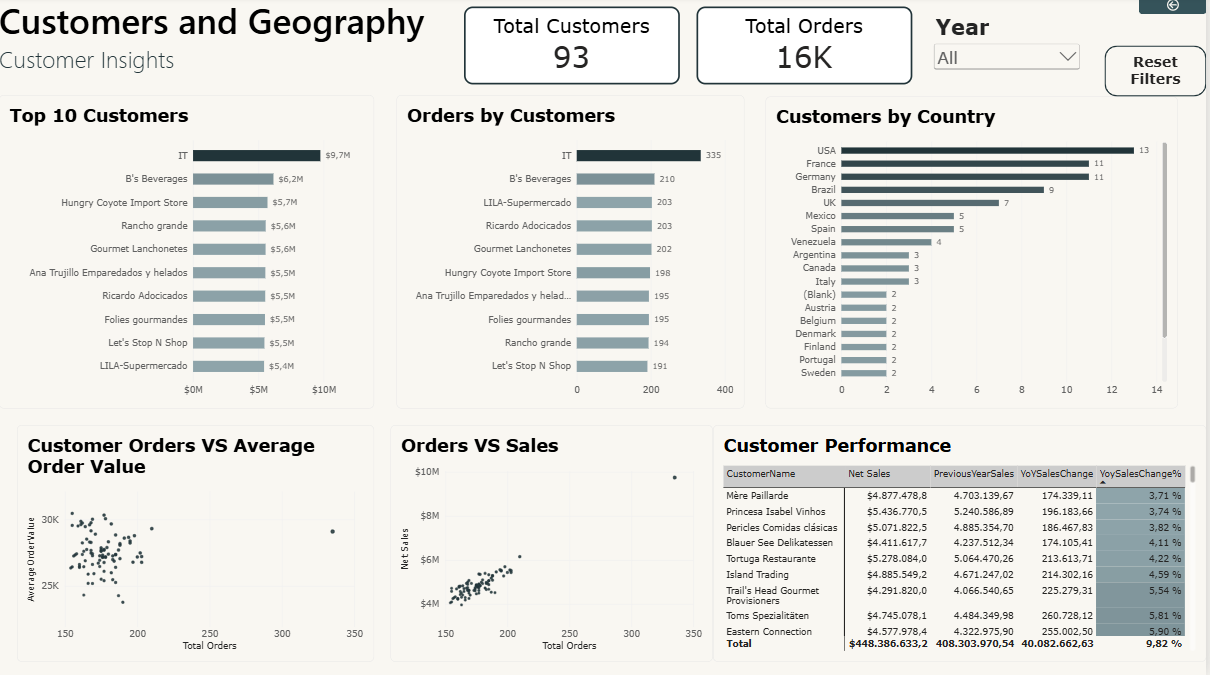

The page's visual inventory and layout, read from the dashboard file:
{"tool":"powerbi","page":{"name":"Customers and Geography","canvas":[1920,1080],"ordinal":2},"visuals":[{"type":"barChart","title":"Orders by Customers","fields":{"Category":["DimCustomer.CustomerName"],"Y":["ImportantMeasures.TotalOrders"]},"box":[632.3,157.5,553.5,498.7],"z":0},{"type":"barChart","title":"Top 10 Customers","fields":{"Category":["DimCustomer.CustomerName"],"Y":["ImportantMeasures.NetSales"]},"box":[0,157.5,596.5,498.7],"z":1000},{"type":"scatterChart","title":"Customer Orders VS Average Order Value","fields":{"Category":["DimCustomer.CustomerName"],"Size":["ImportantMeasures.NetSales"],"X":["ImportantMeasures.TotalOrders"],"Y":["ImportantMeasures.AverageOrderValue"]},"box":[28.6,682.4,567.8,377],"z":2000},{"type":"barChart","title":"Customers by Country","fields":{"Category":["DimCustomer.Country"],"Y":["CountNonNull(DimCustomer.CustomerName)"]},"box":[1219.2,159.9,656.1,496.3],"z":3000},{"type":"scatterChart","title":"Orders VS Sales","fields":{"Category":["DimCustomer.CustomerName"],"Size":["ImportantMeasures.NetSales"],"X":["ImportantMeasures.TotalOrders"],"Y":["ImportantMeasures.NetSales"]},"box":[622.7,682.4,513,377],"z":4000},{"type":"actionButton","box":[1813.3,0,107.4,28.6],"z":5000},{"type":"actionButton","title":"Reset Filters","box":[1758.4,78.7,162.2,81.1],"z":6000},{"type":"slicer","fields":{"Values":["DimDate.Year"]},"box":[1481.7,28.6,242.5,125],"z":7000},{"type":"pivotTable","title":"Customer Performance","fields":{"Rows":["DimCustomer.CustomerName"],"Values":["ImportantMeasures.NetSales","ImportantMeasures.PreviousYearSales","ImportantMeasures.YoYSalesChange","ImportantMeasures.YoySalesChange%"]},"box":[1135.7,682.4,785,377],"z":8000},{"type":"textbox","box":[0,0,739.6,140.8],"z":9000},{"type":"cardVisual","fields":{"Data":["ImportantMeasures.# Customers"]},"box":[739.6,16.7,343.6,124.1],"z":10000},{"type":"cardVisual","fields":{"Data":["ImportantMeasures.TotalOrders"]},"box":[1109.5,16.7,343.6,124.1],"z":11000}]}

Visuals, with their boxes in screenshot pixels (x1, y1, x2, y2), scaled from the page's 1920x1080 canvas onto the 1210x675 screenshot:
"Orders by Customers" barChart: crop(398, 98, 747, 410)
"Top 10 Customers" barChart: crop(0, 98, 376, 410)
"Customer Orders VS Average Order Value" scatterChart: crop(18, 426, 376, 662)
"Customers by Country" barChart: crop(768, 100, 1182, 410)
"Orders VS Sales" scatterChart: crop(392, 426, 716, 662)
actionButton: crop(1143, 0, 1209, 18)
"Reset Filters" actionButton: crop(1108, 49, 1209, 100)
slicer - DimDate.Year: crop(934, 18, 1087, 96)
"Customer Performance" pivotTable: crop(716, 426, 1209, 662)
textbox: crop(0, 0, 466, 88)
cardVisual - ImportantMeasures.# Customers: crop(466, 10, 683, 88)
cardVisual - ImportantMeasures.TotalOrders: crop(699, 10, 916, 88)
